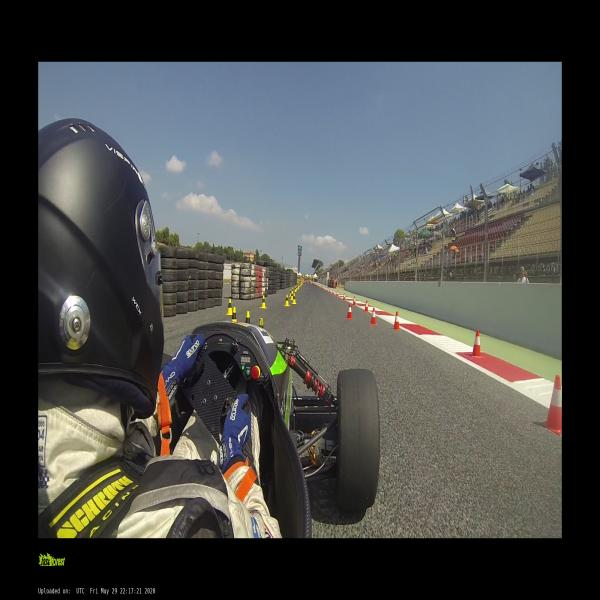orange_cone: (542, 375, 562, 435), (470, 330, 482, 358), (392, 312, 401, 329), (345, 304, 353, 320), (369, 308, 377, 324), (364, 301, 369, 313), (352, 296, 356, 306), (343, 294, 346, 301), (336, 291, 339, 297), (229, 279, 232, 284), (332, 290, 334, 295), (329, 289, 331, 293), (326, 288, 328, 292)
yellow_cone: (225, 298, 233, 315), (260, 295, 267, 308), (232, 308, 236, 322), (284, 295, 289, 306), (259, 318, 264, 328), (246, 312, 250, 324), (292, 293, 296, 304), (290, 292, 294, 300), (289, 288, 292, 296), (294, 286, 296, 292), (291, 288, 293, 293)
